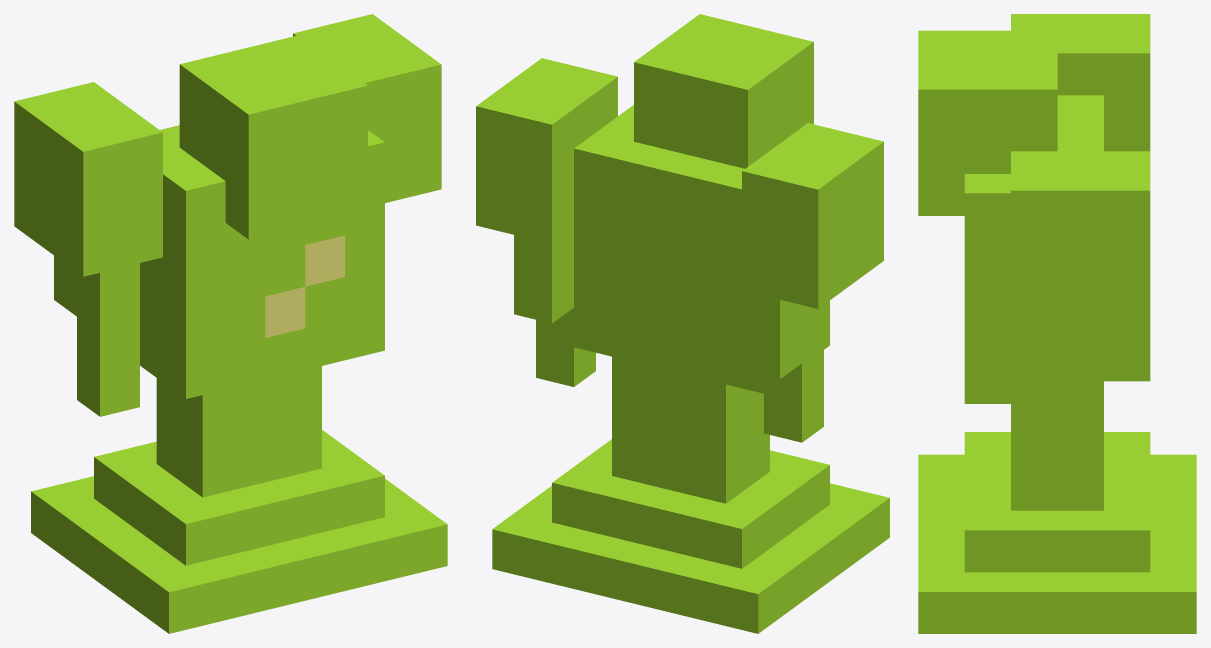
The model's file is slob_a_idle_0.obj.
The picture shows the model from 3 angles, left to right: view 1: azimuth 30°, elevation 25°; view 2: azimuth 150°, elevation 25°; view 3: azimuth 270°, elevation 25°; orthographic projection. The views are drawn at different scales.
Bounding box in the file's own units: 0.9 × 1.2 × 0.6.
Materials: 1 (1 with a texture image).
